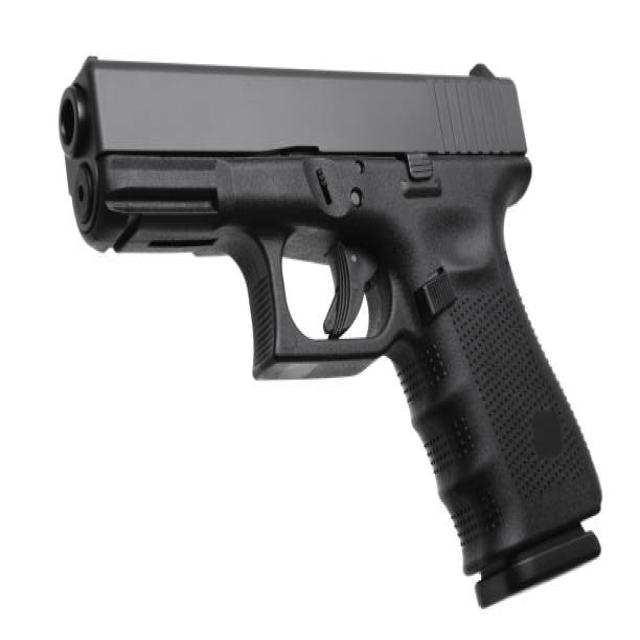pistol: (53, 46, 605, 618)
